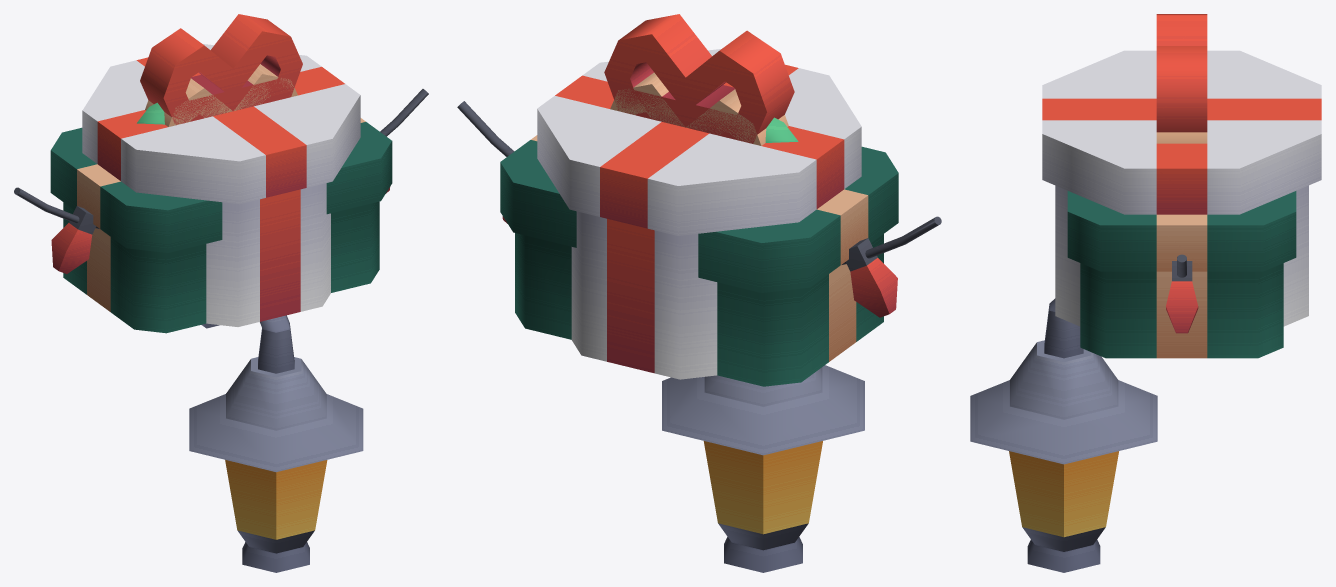
Rendered from holiday.glb.
The picture shows the model from 3 angles, left to right: view 1: azimuth 30°, elevation 25°; view 2: azimuth 150°, elevation 25°; view 3: azimuth 270°, elevation 25°; orthographic projection. The views are drawn at different scales.
Visible parts, largest first — view 1: lid (×4), lantern-hanging, present-a-round, present-b-rectangle, lights-colored; view 2: lid (×4), lantern-hanging, present-a-round, present-b-rectangle, lights-colored; view 3: lid (×4), lantern-hanging, present-b-rectangle, present-a-round, lights-colored.
Part boxes in pixels (left/top/right/bottom): lid (×4): left=50, top=14, right=392, bottom=252; lantern-hanging: left=189, top=315, right=363, bottom=572; present-a-round: left=206, top=183, right=330, bottom=326; present-b-rectangle: left=63, top=201, right=379, bottom=333; lights-colored: left=14, top=89, right=428, bottom=273; lid (×4): left=500, top=14, right=898, bottom=292; lantern-hanging: left=662, top=365, right=864, bottom=572; present-a-round: left=571, top=211, right=717, bottom=379; present-b-rectangle: left=515, top=233, right=883, bottom=386; lights-colored: left=457, top=101, right=941, bottom=317; lid (×4): left=1042, top=14, right=1321, bottom=271; lantern-hanging: left=970, top=298, right=1157, bottom=572; present-b-rectangle: left=1080, top=263, right=1283, bottom=358; present-a-round: left=1055, top=185, right=1308, bottom=326; lights-colored: left=1166, top=254, right=1198, bottom=333.
Bounding box in the file's own units: 1.01 × 1.14 × 0.6906.
Materials: 1 (1 with a texture image).
